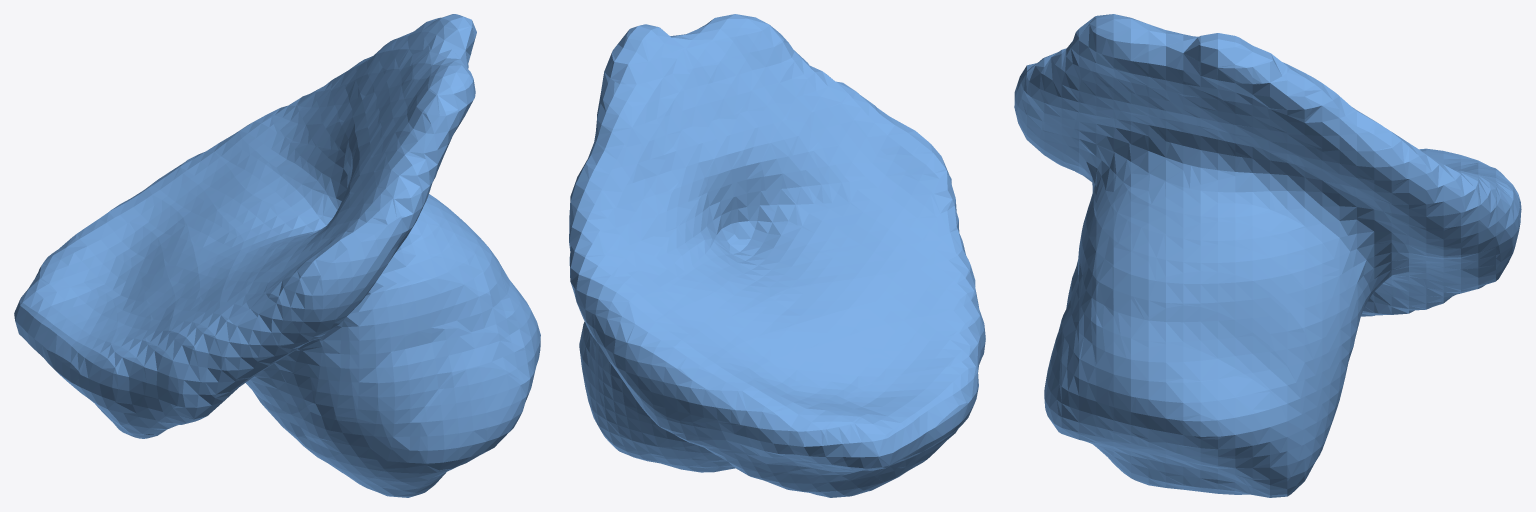
File: water_0017.glb
3 views of the same model, side by side, from view 1: azimuth 30°, elevation 25°; view 2: azimuth 150°, elevation 25°; view 3: azimuth 270°, elevation 25° (orthographic). The views are drawn at different scales.
Visible parts, largest first — view 1: Water_0017; view 2: Water_0017; view 3: Water_0017.
Part boxes in pixels (left/top/right/bottom): Water_0017: left=14, top=14, right=540, bottom=497; Water_0017: left=569, top=14, right=985, bottom=497; Water_0017: left=1014, top=14, right=1521, bottom=497.
Size of the model in its own units: 1.82 by 1.82 by 1.7.
